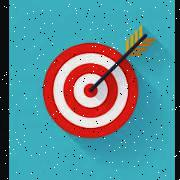target_red: (42, 41, 139, 138)
